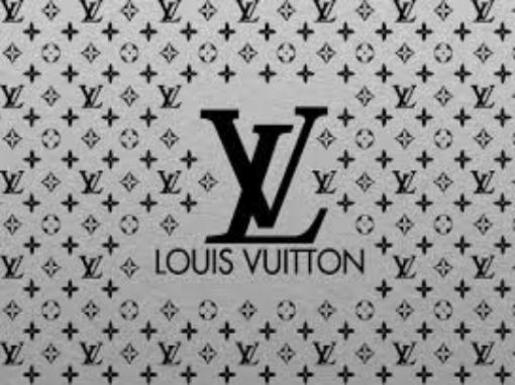LOUIS-VUITTON: (199, 93, 337, 251), (139, 243, 380, 284)
